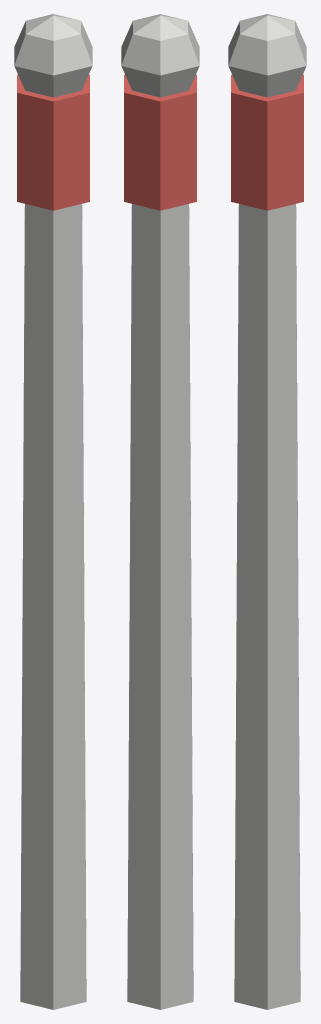
Rendered from golf-course-and-clubhouse-out-of-bounds-stake-1cab66bc__33474.glb.
3 views of the same model, side by side, from view 1: azimuth 30°, elevation 25°; view 2: azimuth 150°, elevation 25°; view 3: azimuth 330°, elevation 25° (orthographic).
Parts seen in each view (by area): view 1: out-of-bounds-stake; view 2: out-of-bounds-stake; view 3: out-of-bounds-stake.
Boxes of the visible parts, x1,y1,x2,y2 form: out-of-bounds-stake: (14,14,92,1009); out-of-bounds-stake: (121,14,199,1009); out-of-bounds-stake: (228,14,306,1009).
Size of the model in its own units: 0.09 by 1.08 by 0.078.
